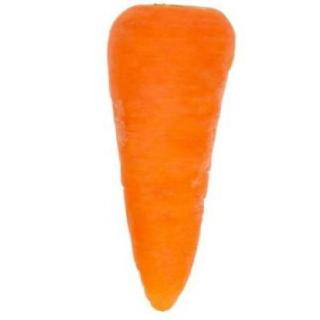carrot: (102, 2, 240, 312)
